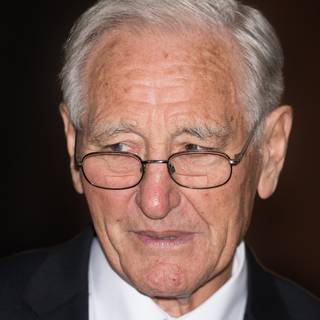eye: (98, 136, 141, 161), (176, 139, 216, 160)
